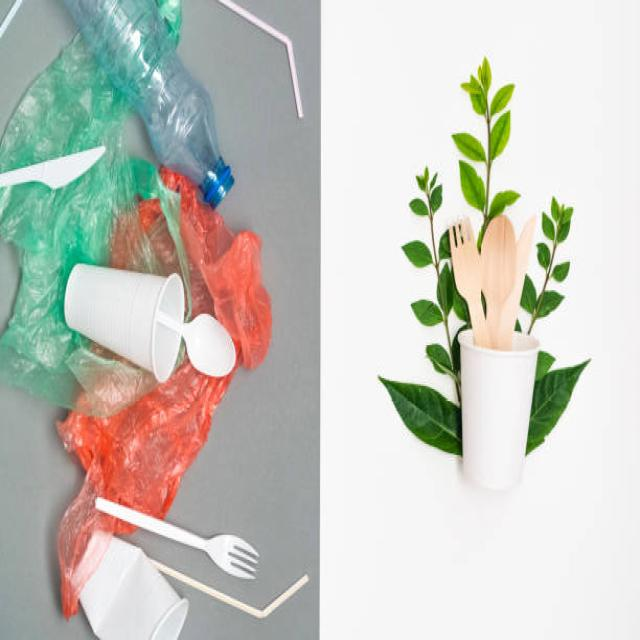cardboard: (452, 325, 544, 497), (442, 199, 534, 317)
plastic: (9, 8, 295, 640)
